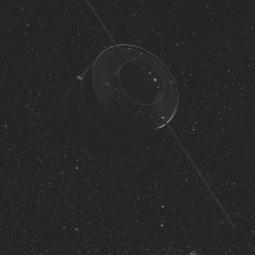double_start: (52, 43, 206, 154)
